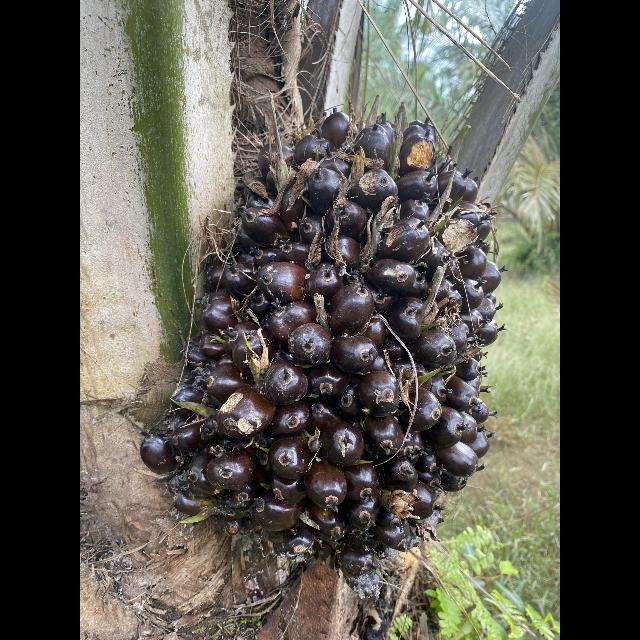Unripe: (145, 114, 504, 562)
